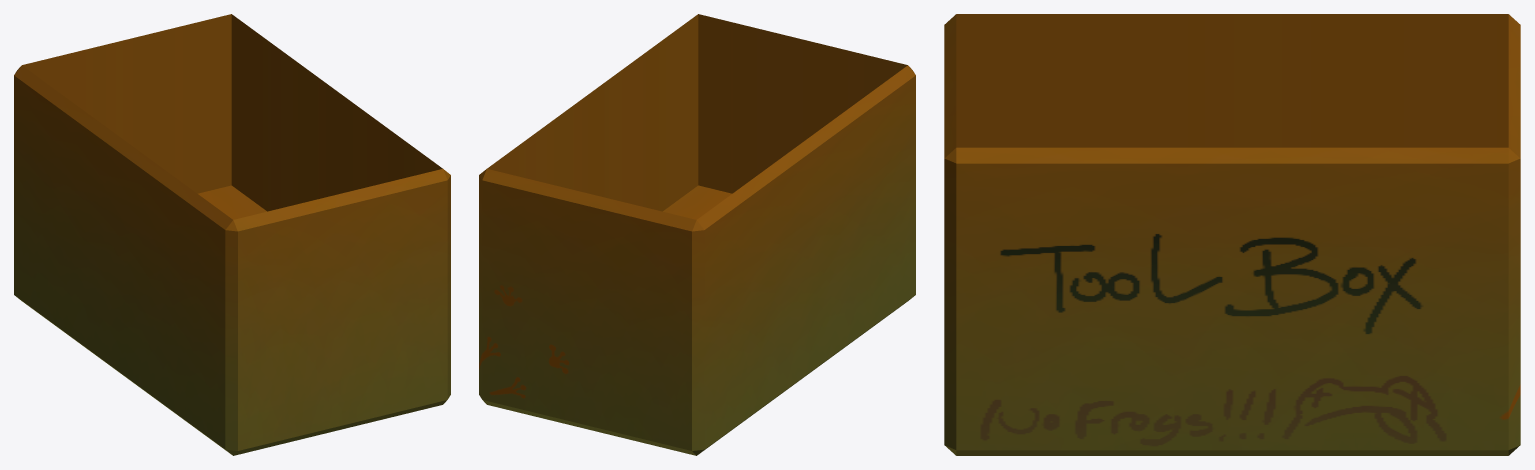
Rendered from ToolBox.fbx.
3 views of the same model, side by side, from view 1: azimuth 30°, elevation 25°; view 2: azimuth 150°, elevation 25°; view 3: azimuth 270°, elevation 25° (orthographic). The views are drawn at different scales.
Visible parts, largest first — view 1: Cube; view 2: Cube; view 3: Cube.
Boxes of the visible parts, x1=… form: Cube: x1=14, y1=14, x2=450, y2=455; Cube: x1=479, y1=14, x2=915, y2=455; Cube: x1=944, y1=14, x2=1520, y2=455.
Size of the model in its own units: 357 by 357 by 604.
Materials: 1 (1 with a texture image).
